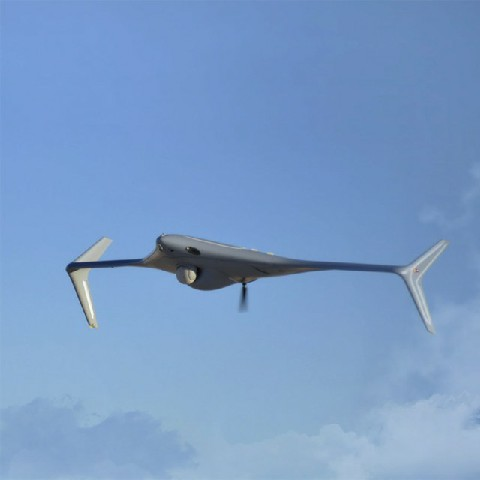maybay_khongnguoilai: (68, 232, 437, 334)
